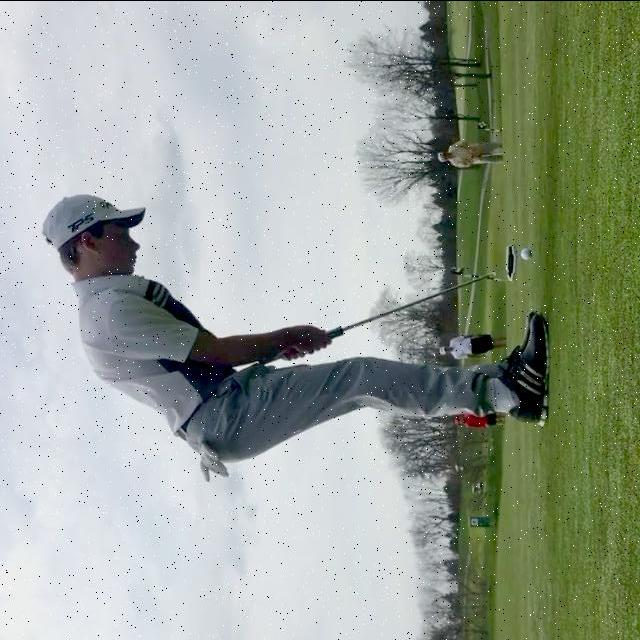golf ball: (521, 247, 532, 259)
golf club-handle: (255, 240, 519, 365)
golf club-head: (504, 242, 517, 281)
